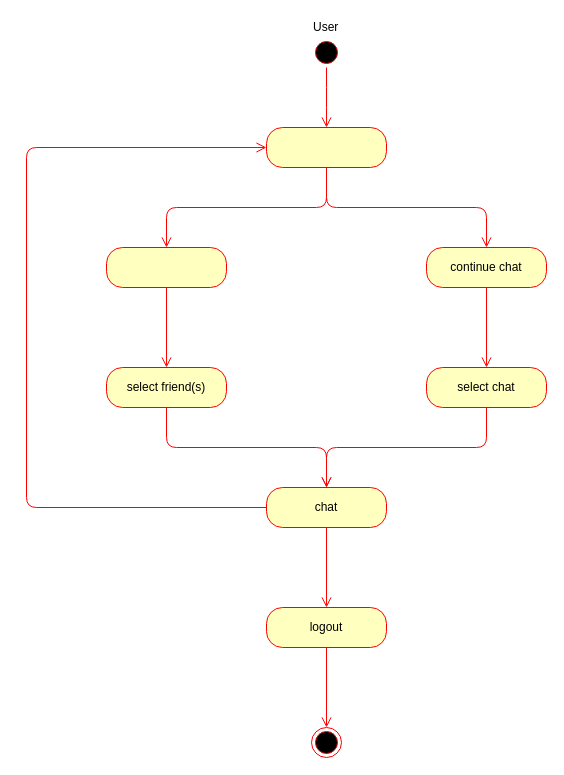
This 564x775 diagram has some shape labels left out. The shapes that lost their labels are listed below. From the top down, each one's centre as x and y in pixels, then its label:
the point at 326,147: login
the point at 166,267: create chat
